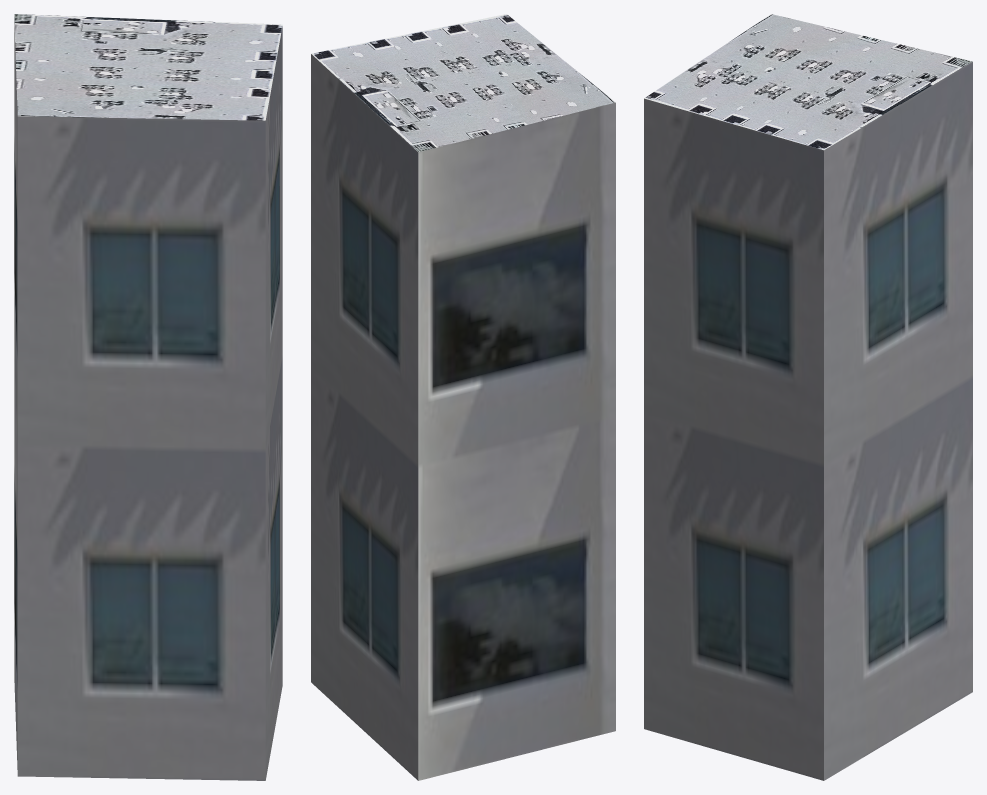
The model's file is ResTex__763.fbx.
3 renders of one model, left to right at view 1: azimuth 30°, elevation 25°; view 2: azimuth 150°, elevation 25°; view 3: azimuth 270°, elevation 25°, orthographic. The views are drawn at different scales.
Parts seen in each view (by area): view 1: CityEngineMaterial_10_m, CityEngineMaterial_8_m; view 2: CityEngineMaterial_10_m, CityEngineMaterial_8_m; view 3: CityEngineMaterial_10_m, CityEngineMaterial_8_m.
Boxes of the visible parts, box(x1,y1,x2,y2) form: CityEngineMaterial_10_m: box(14, 23, 282, 780); CityEngineMaterial_8_m: box(14, 14, 282, 120); CityEngineMaterial_10_m: box(311, 54, 615, 780); CityEngineMaterial_8_m: box(311, 14, 615, 152); CityEngineMaterial_10_m: box(644, 61, 972, 780); CityEngineMaterial_8_m: box(644, 14, 972, 150).
Size of the model in its own units: 2.78 by 6 by 2.84.
Materials: 2 (2 with a texture image).
